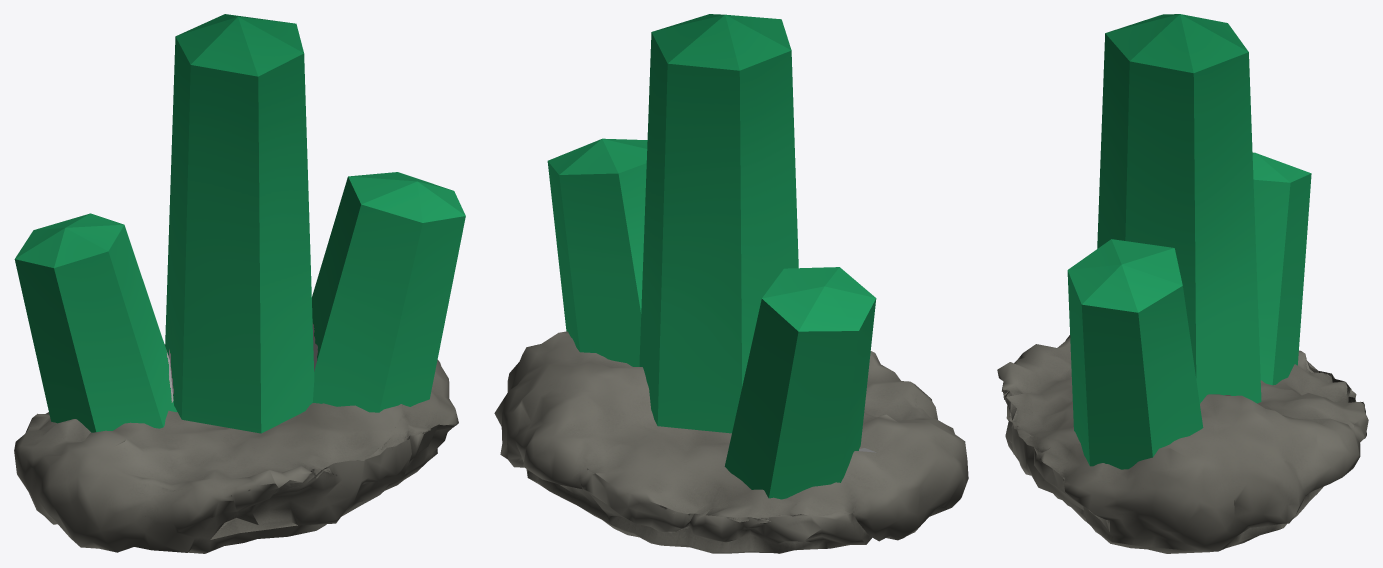
Rendered from esmeralda_bruta.fbx.
3 renders of one model, left to right at view 1: azimuth 30°, elevation 25°; view 2: azimuth 150°, elevation 25°; view 3: azimuth 270°, elevation 25°, orthographic. The views are drawn at different scales.
Visible parts, largest first — view 1: esmeralda_bruta_cristal, esmeralda_bruta; view 2: esmeralda_bruta_cristal, esmeralda_bruta; view 3: esmeralda_bruta_cristal, esmeralda_bruta.
Part boxes in pixels (x1,y1,x2,y2): esmeralda_bruta_cristal: (14, 14, 465, 433); esmeralda_bruta: (14, 344, 458, 553); esmeralda_bruta_cristal: (547, 14, 876, 499); esmeralda_bruta: (494, 331, 968, 553); esmeralda_bruta_cristal: (1067, 14, 1311, 469); esmeralda_bruta: (997, 335, 1368, 553).
Bounding box in the file's own units: 2.7 × 2.92 × 2.13.
Materials: 2 (2 with a texture image).
